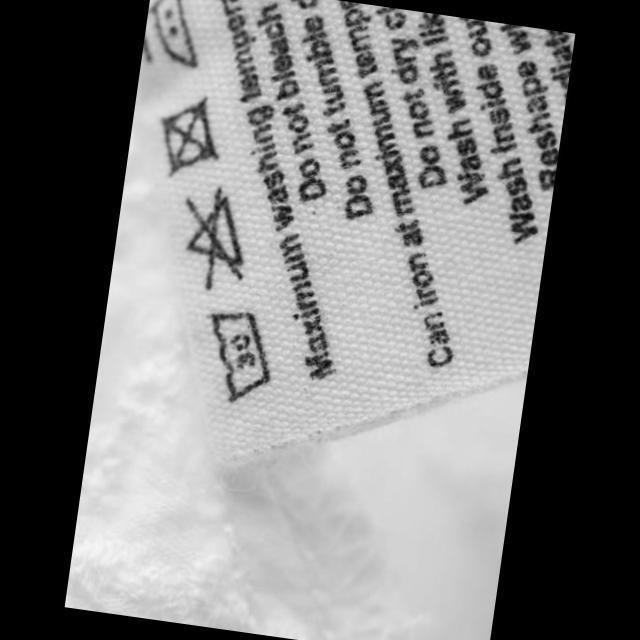30C: (190, 296, 286, 410)
DN_bleach: (169, 182, 258, 296)
DN_tumble_dry: (148, 84, 232, 186)
iron_medium: (140, 0, 212, 80)
